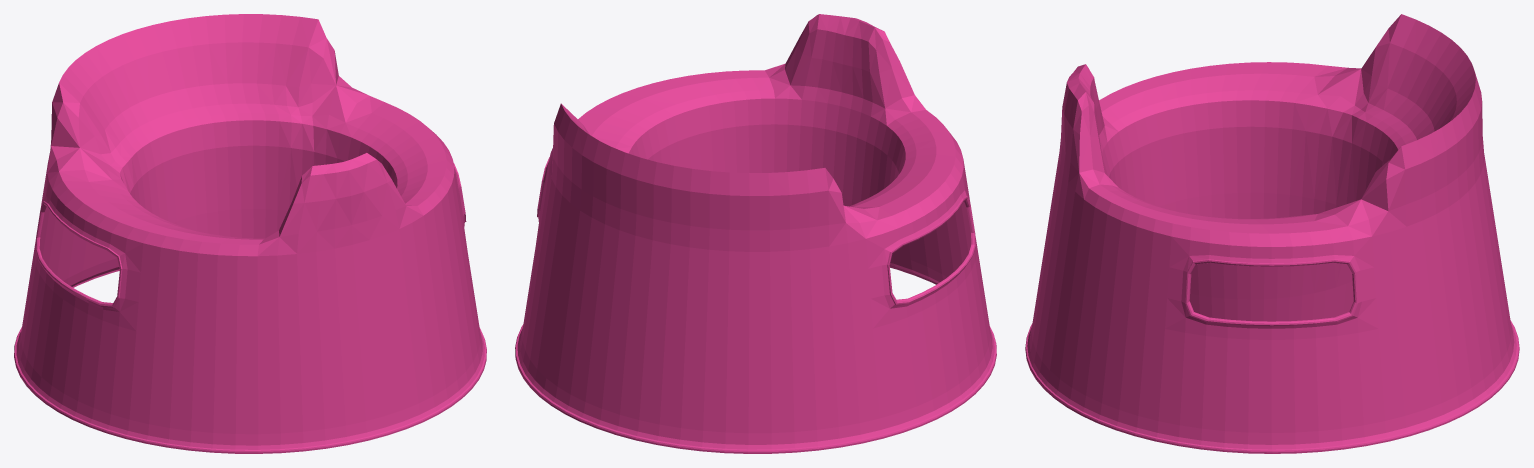
Rendered from potty.obj.
3 renders of one model, left to right at view 1: azimuth 30°, elevation 25°; view 2: azimuth 150°, elevation 25°; view 3: azimuth 270°, elevation 25°, orthographic. The views are drawn at different scales.
Parts seen in each view (by area): view 1: potty_Cylinder; view 2: potty_Cylinder; view 3: potty_Cylinder.
Part boxes in pixels (<box>): potty_Cylinder: <box>14,14,486,453</box>; potty_Cylinder: <box>515,14,996,453</box>; potty_Cylinder: <box>1025,14,1519,453</box>.
Size of the model in its own units: 30.35 by 18.4 by 30.35.
